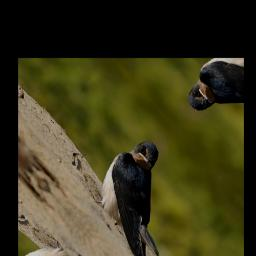Swallow: (78, 129, 218, 256)
